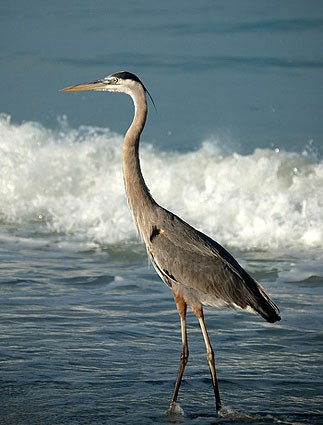heron: (57, 63, 285, 423)
